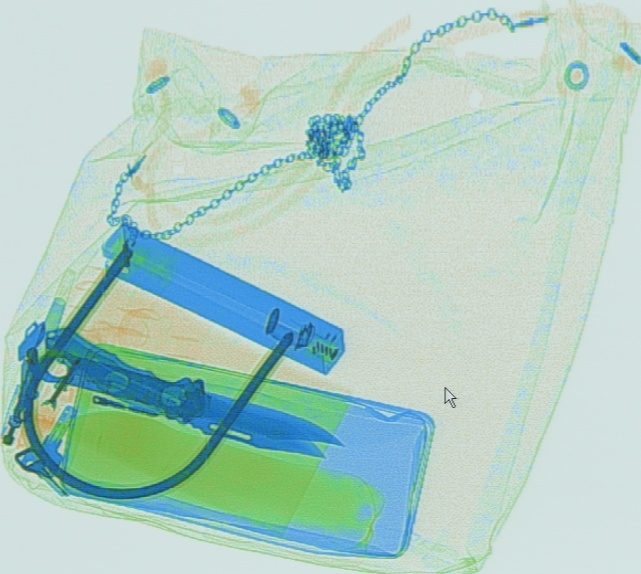knife: (41, 326, 344, 460)
